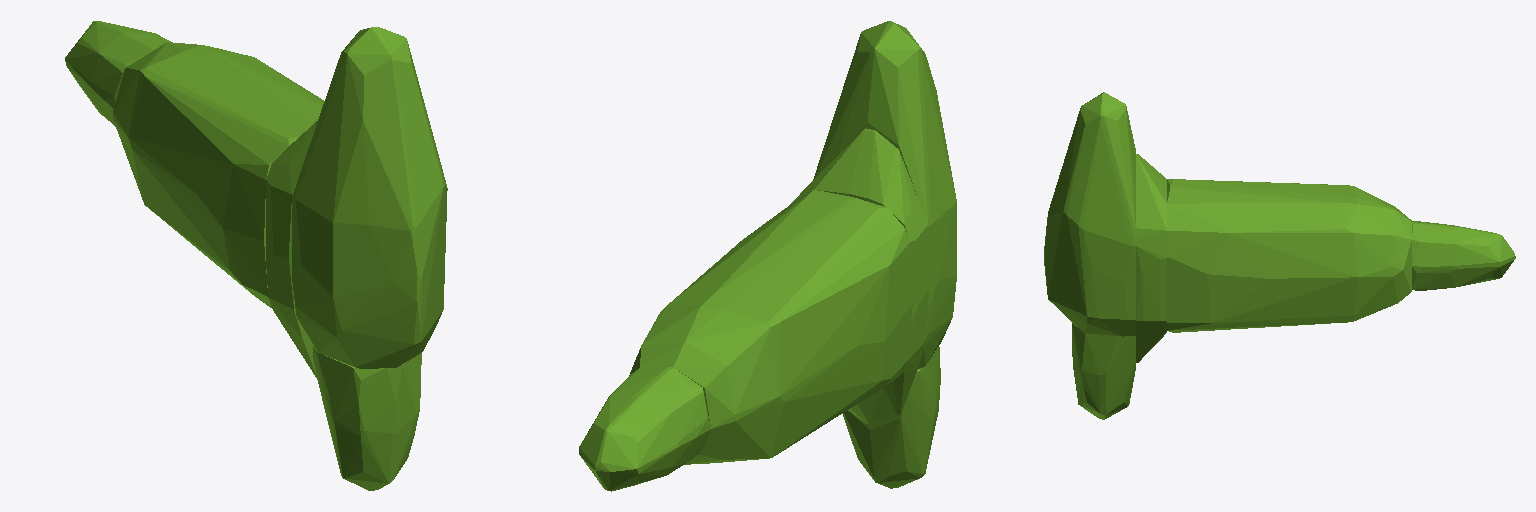
URDF robot description (blob076):
<robot name="blob076">
  <link name="random_obj_076">
    <contact>
      <lateral_friction value="1.0"/>
      <rolling_friction value="0.0"/>
      <inertia_scaling value="3.0"/>
      <contact_cfm value="0.0"/>
      <contact_erp value="1.0"/>
    </contact>
    <inertial>
      <origin rpy="0 0 0" xyz="0 0 0"/>
      <mass value="0.1"/>
      <inertia ixx="1" ixy="0" ixz="0" iyy="1" iyz="0" izz="0"/>
    </inertial>
    <visual>
      <origin rpy="0 0 0" xyz="0 0 0"/>
      <geometry>
        <mesh filename="076.obj" scale="0.015 0.015 0.015"/>
      </geometry>
      <material name="blockmat">
        <color rgba="0.46 0.68 0.23 1"/>
      </material>
    </visual>
    <collision>
      <origin rpy="0 0 0" xyz="0 0 0"/>
      <geometry>
        <mesh filename="076.obj" scale="0.015 0.015 0.015"/>
      </geometry>
    </collision>
  </link>
</robot>

--- Facts derived from the render (not from the file) ---
The picture shows the robot from 3 angles, left to right: view 1: azimuth 30°, elevation 25°; view 2: azimuth 150°, elevation 25°; view 3: azimuth 270°, elevation 25°; orthographic projection.
Robot: blob076 — 1 links, 0 joints (none); root link random_obj_076; default pose: every joint at zero.
Links seen in each view (by area): view 1: random_obj_076; view 2: random_obj_076; view 3: random_obj_076.
Link boxes in pixels (x1,y1,x2,y2): random_obj_076: (65,21,447,490); random_obj_076: (579,21,956,491); random_obj_076: (1044,92,1515,419).
Bounding box of the posed robot: 0.0302 × 0.1194 × 0.0914 m (x, y, z).
1 mesh visuals loaded from 1 distinct referenced files (1 OBJ).